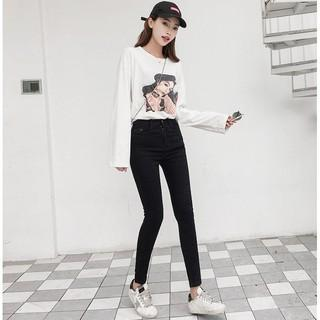pants: (124, 117, 205, 289)
sweater: (116, 45, 227, 172)
